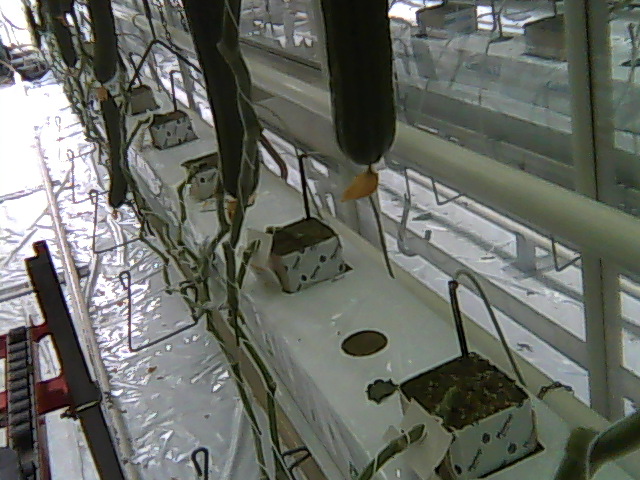concombre: (180, 1, 263, 204), (318, 1, 398, 206)
